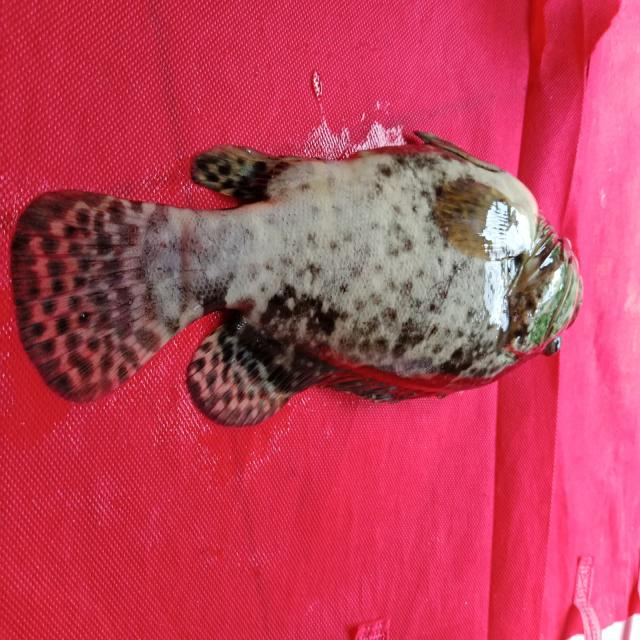ikan: (11, 103, 593, 445)
